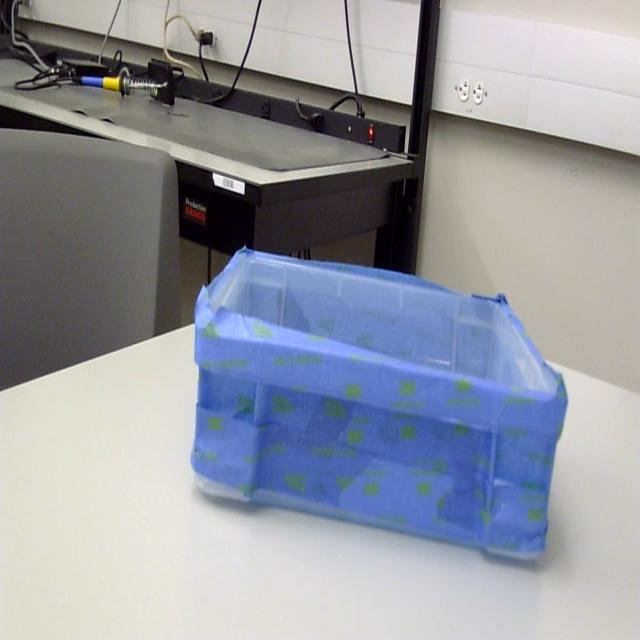bucket: (189, 234, 572, 571)
